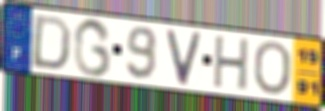9: (124, 25, 160, 82)
D: (28, 13, 74, 72)
G: (71, 17, 113, 79)
H: (211, 34, 252, 93)
O: (252, 39, 294, 97)
V: (164, 28, 205, 88)
